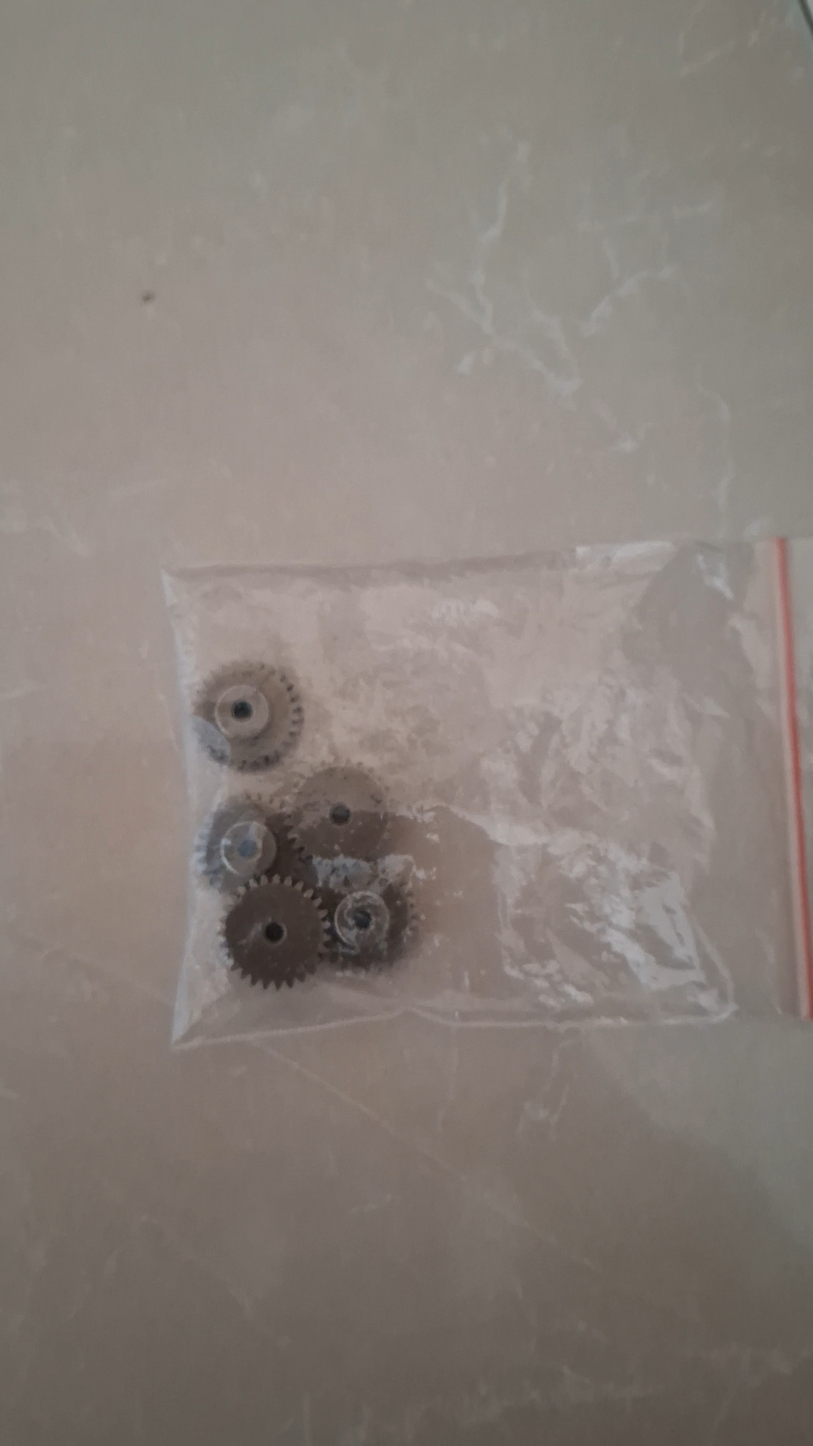spur gear: (221, 876, 329, 988), (193, 663, 303, 771), (195, 796, 316, 892), (289, 766, 389, 859), (195, 797, 277, 891), (332, 881, 417, 967)
